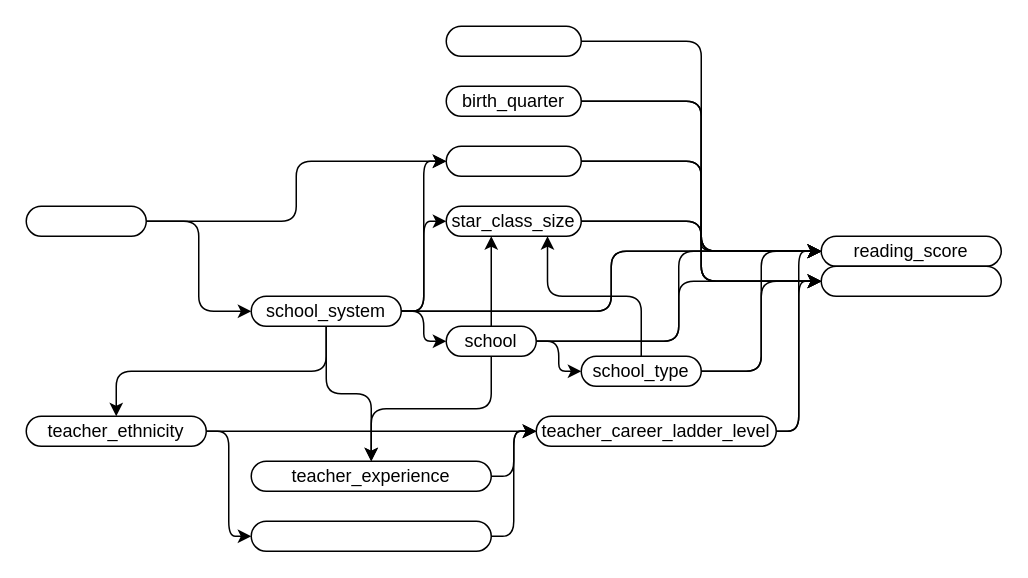
The diagram is 1028 pixels wide and 578 high, and some of its shapes have lost their labels. Here are the shapes that lost their labels. From the top down, the centre of each, then its label:
At [513,40]: "sex".
At [513,160]: "free_lunches".
At [85,220]: "ethnicity".
At [910,280]: "math_score".
At [370,535]: "teacher_highest_degree".
